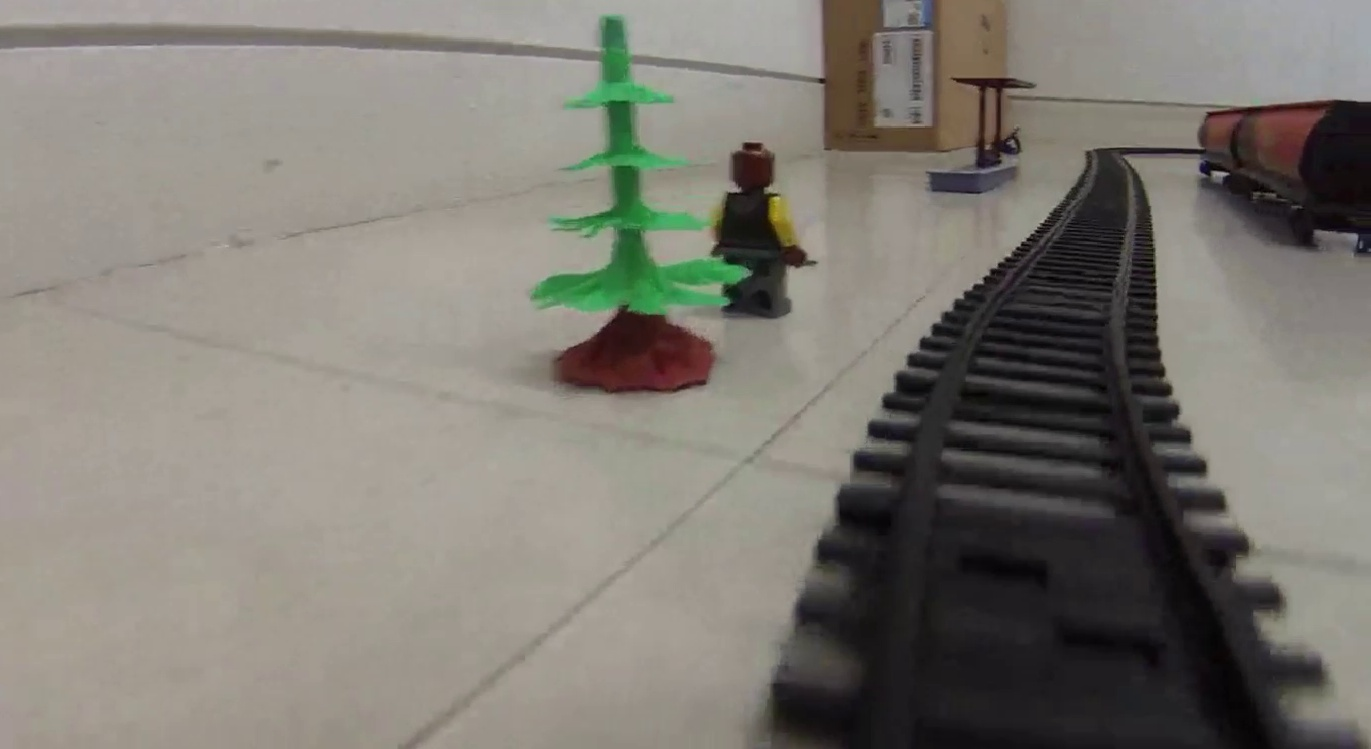people: (716, 141, 804, 317)
tree: (527, 17, 722, 390)
